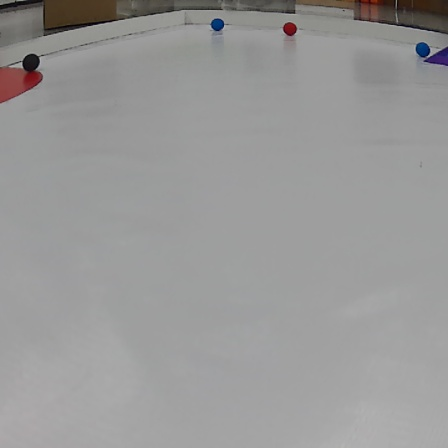black: (23, 54, 41, 70)
blue: (414, 41, 432, 56), (211, 17, 227, 31)
red: (282, 21, 299, 34)
red_base: (0, 70, 42, 110)
